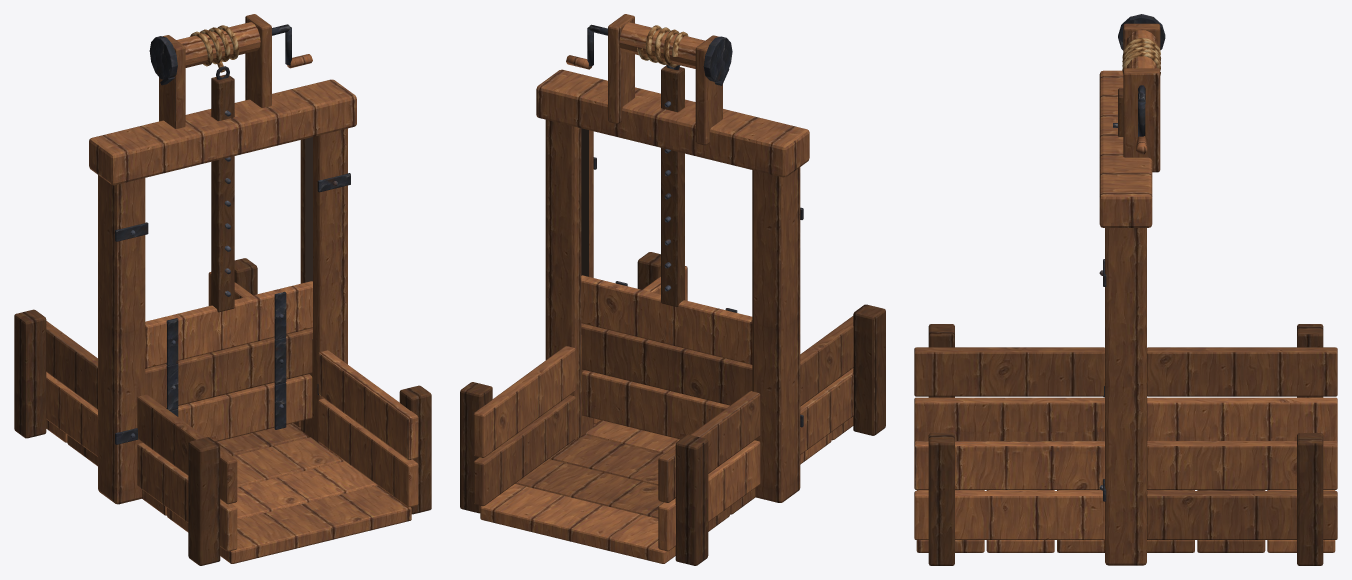
File: hw_sluice_gate.glb
3 renders of one model, left to right at view 1: azimuth 30°, elevation 25°; view 2: azimuth 150°, elevation 25°; view 3: azimuth 270°, elevation 25°, orthographic. The views are drawn at different scales.
Visible parts, largest first — view 1: model; view 2: model; view 3: model.
Boxes of the visible parts, <box> form: model: <box>14,14,431,565</box>; model: <box>460,14,885,565</box>; model: <box>914,14,1337,565</box>.
Size of the model in its own units: 1.14 by 1.95 by 1.61.
Materials: 8 (7 with a texture image).
